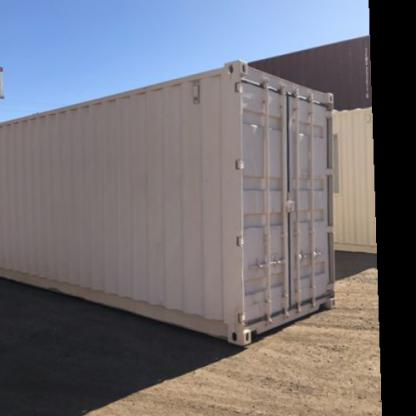Damage: (59, 127, 83, 183)
